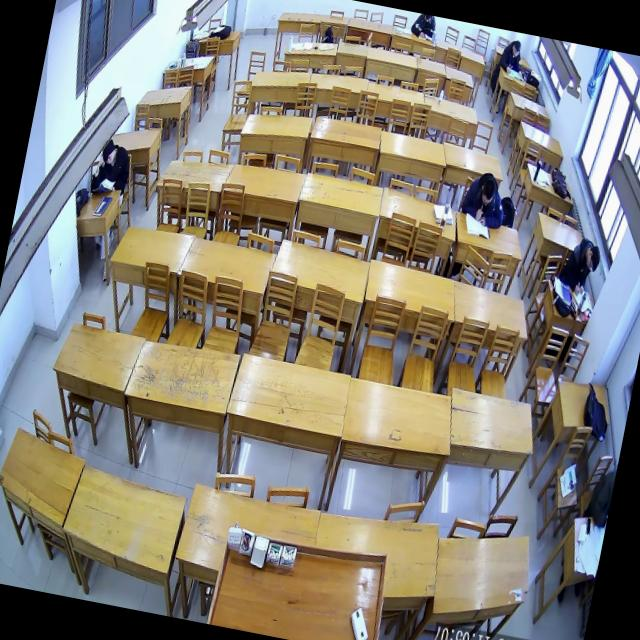down: (477, 175, 498, 209), (583, 243, 603, 277), (99, 138, 119, 168), (510, 39, 523, 60)
sit: (457, 166, 512, 232), (88, 134, 136, 201), (556, 233, 604, 300), (496, 38, 525, 78)
